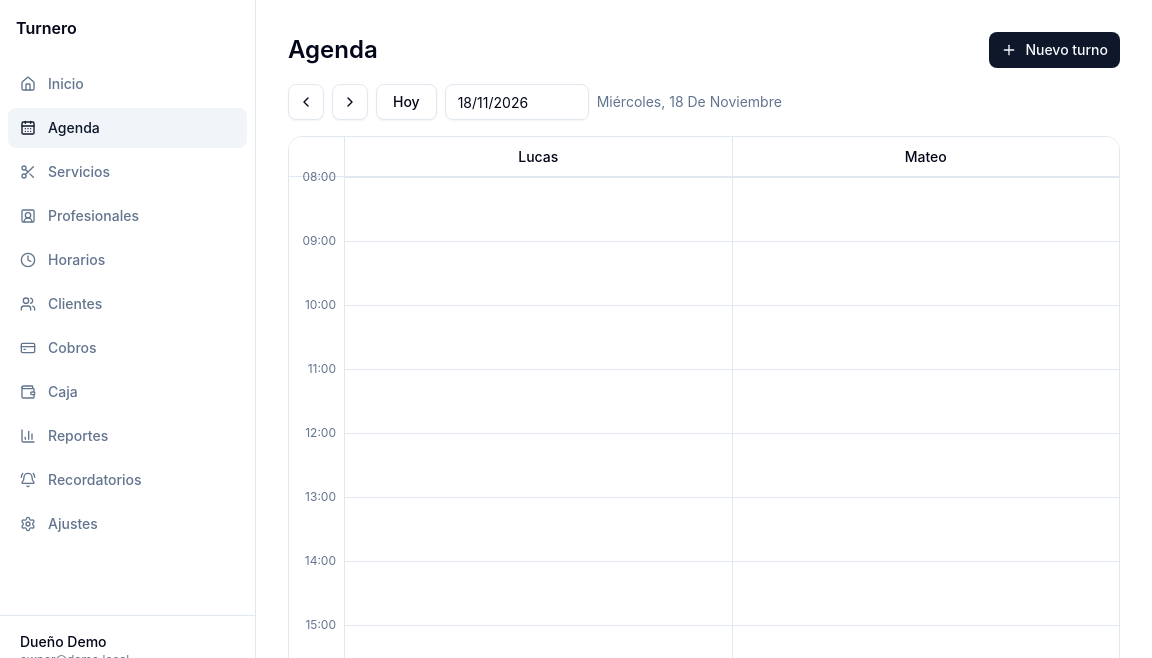
Test: agenda page › only offers the services the selected professional performs
This screenshot has width=1152, height=658.
Click the button named "Agendar con Mateo a las 09:00": x=926, y=257 [732,241,1119,273]
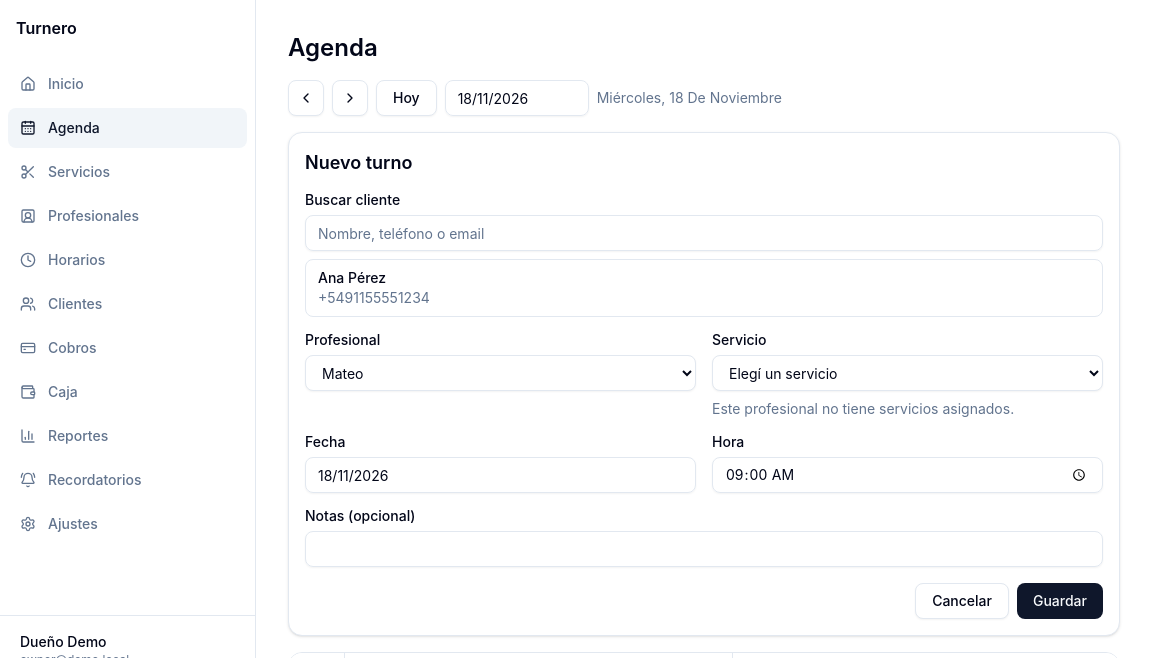
Now the text "Este profesional no tiene servicios asignados." is shown, box [712,400,1014,417]
